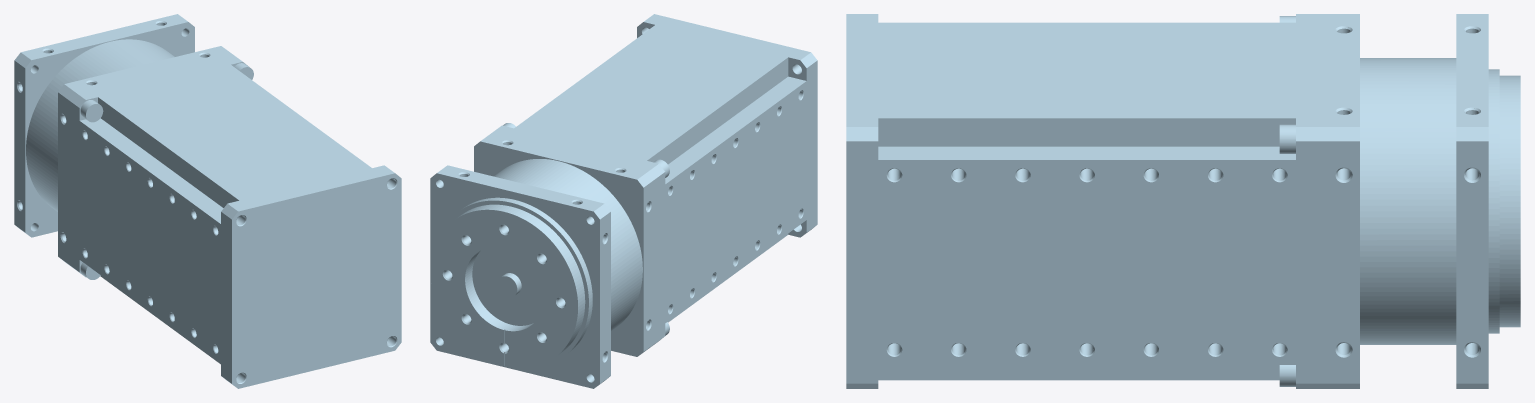
3 views of the same model, side by side, from view 1: azimuth 30°, elevation 25°; view 2: azimuth 150°, elevation 25°; view 3: azimuth 270°, elevation 25° (orthographic). The views are drawn at different scales.
Parts seen in each view (by area): view 1: 5e6f846b6dad5312a53732ff; view 2: 5e6f846b6dad5312a53732ff; view 3: 5e6f846b6dad5312a53732ff.
Part boxes in pixels (x1,y1,x2,y2): 5e6f846b6dad5312a53732ff: [14, 14, 401, 388]; 5e6f846b6dad5312a53732ff: [430, 14, 817, 388]; 5e6f846b6dad5312a53732ff: [846, 14, 1520, 388].
Bounding box in the file's own units: 0.054 × 0.126 × 0.054.
